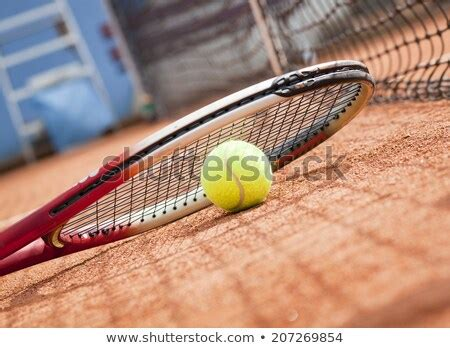tennis_ball: (200, 139, 272, 211)
